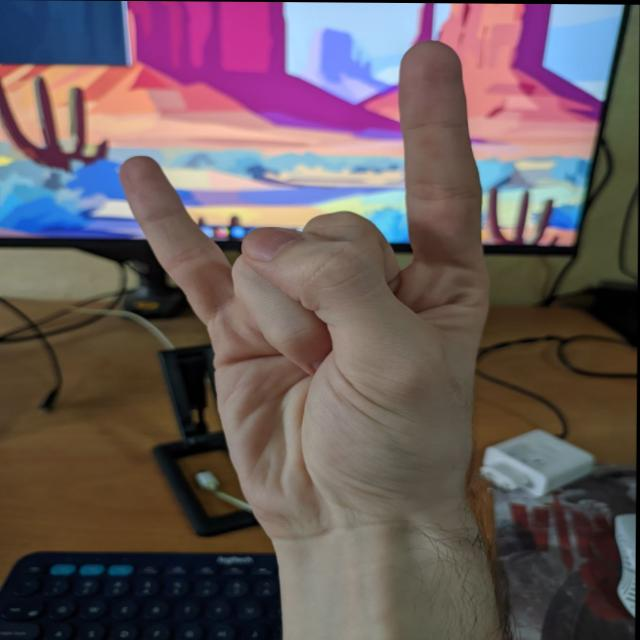y: (88, 42, 530, 467)
